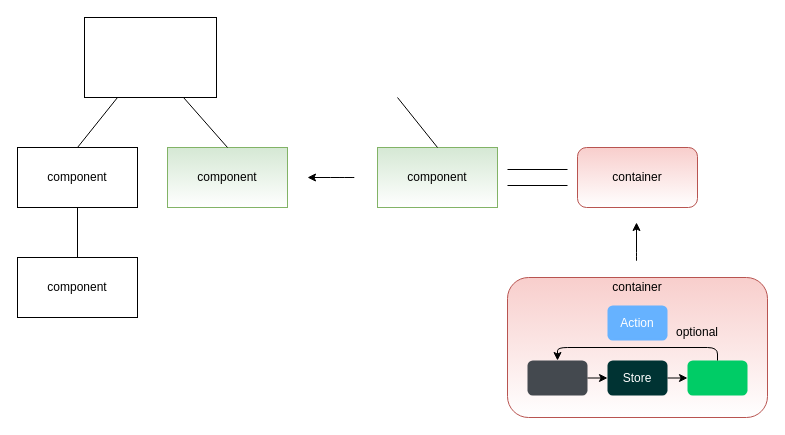
Image size: 785x435. Some labels were removed from this diagram. Here are the shapes that lost their labels. From the top down, the box of each, then its label:
(84, 16, 216, 98): application
(527, 360, 587, 395): Dispatch
(687, 360, 747, 395): View
